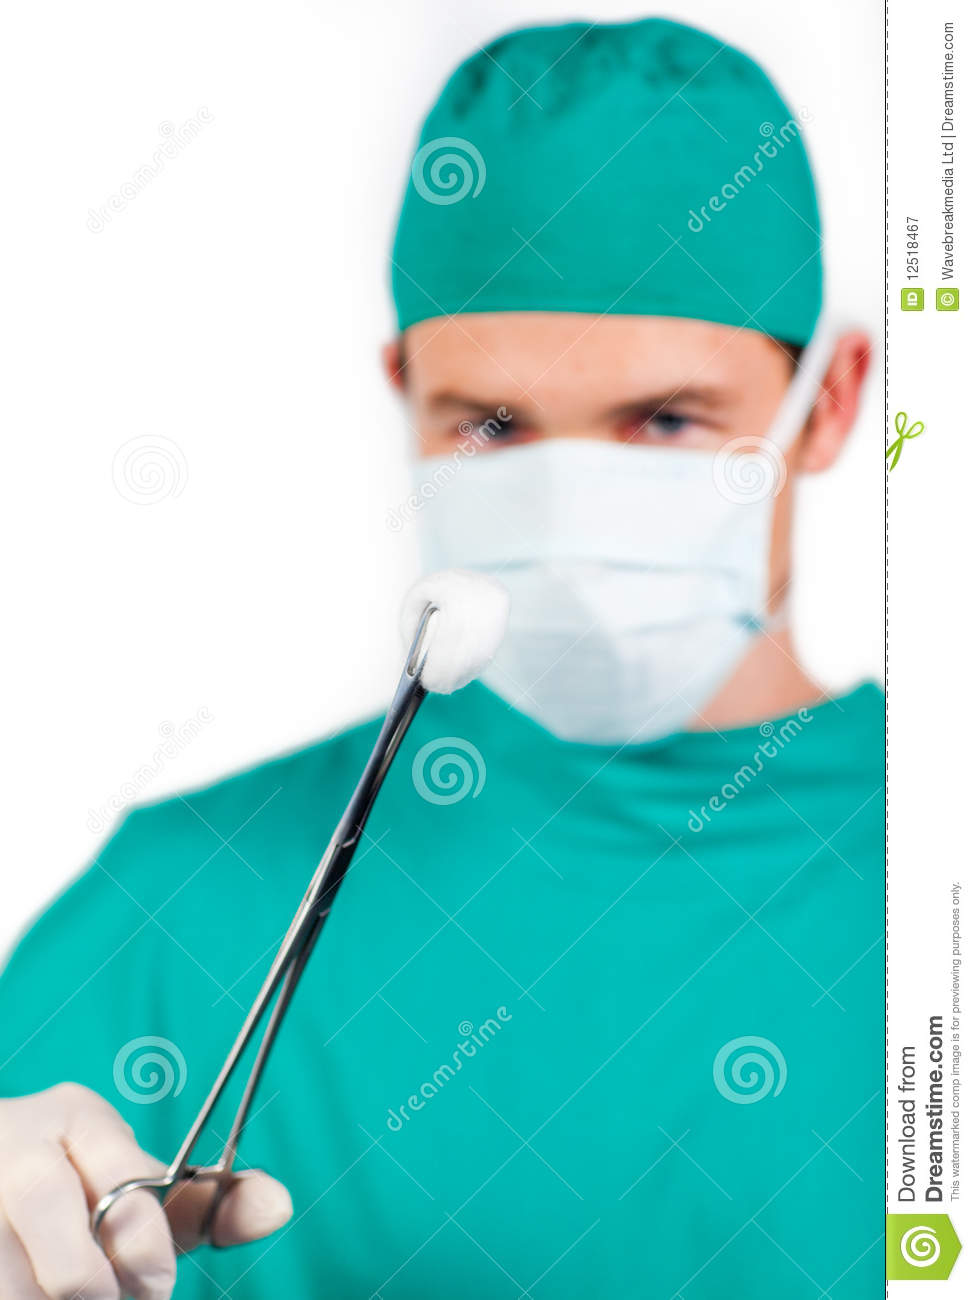mask: (399, 447, 783, 755)
